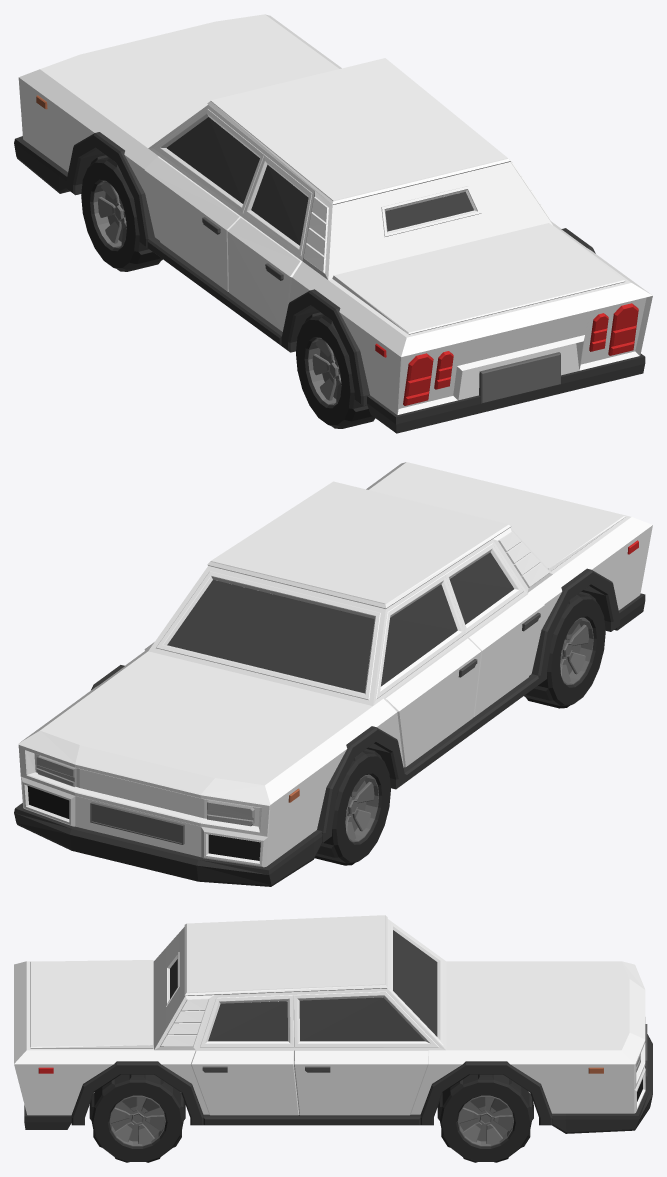
Rendered from saloon.glb.
3 renders of one model, top to bottom at view 1: azimuth 30°, elevation 25°; view 2: azimuth 150°, elevation 25°; view 3: azimuth 270°, elevation 25°, orthographic. The views are drawn at different scales.
Visible parts, largest first — view 1: paint, body, wheel_rl, wheel_fl, tail; view 2: paint, body, wheel_rl, wheel_fl; view 3: paint, body, wheel_fr, wheel_rr.
Part boxes in pixels (x1,y1,x2,y2): paint: [18, 14, 652, 414]; body: [14, 95, 645, 433]; wheel_rl: [296, 312, 375, 428]; wheel_fl: [81, 155, 162, 271]; tail: [375, 303, 638, 405]; paint: [18, 462, 652, 867]; body: [14, 552, 645, 886]; wheel_rl: [524, 591, 605, 708]; wheel_fl: [315, 749, 390, 865]; paint: [14, 915, 645, 1115]; body: [24, 930, 652, 1133]; wheel_fr: [437, 1074, 533, 1162]; wheel_rr: [89, 1074, 185, 1162].
Size of the model in its own units: 1.64 by 1.22 by 4.3.
